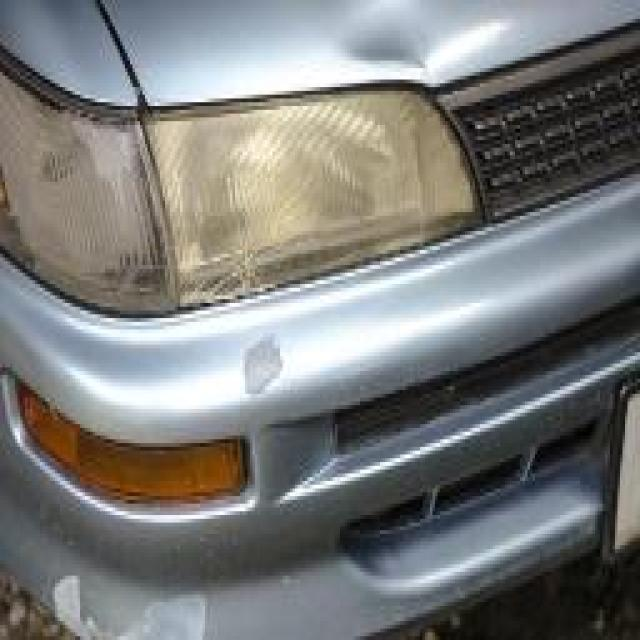Bonnet: (95, 0, 640, 91)
Bumper: (2, 269, 490, 640)
